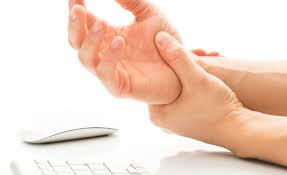palm: (116, 12, 181, 101)
